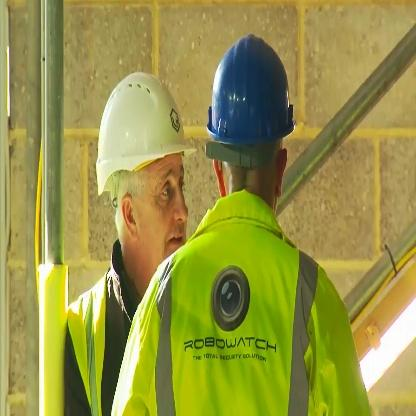helmet: (90, 56, 195, 268), (195, 29, 304, 210)
